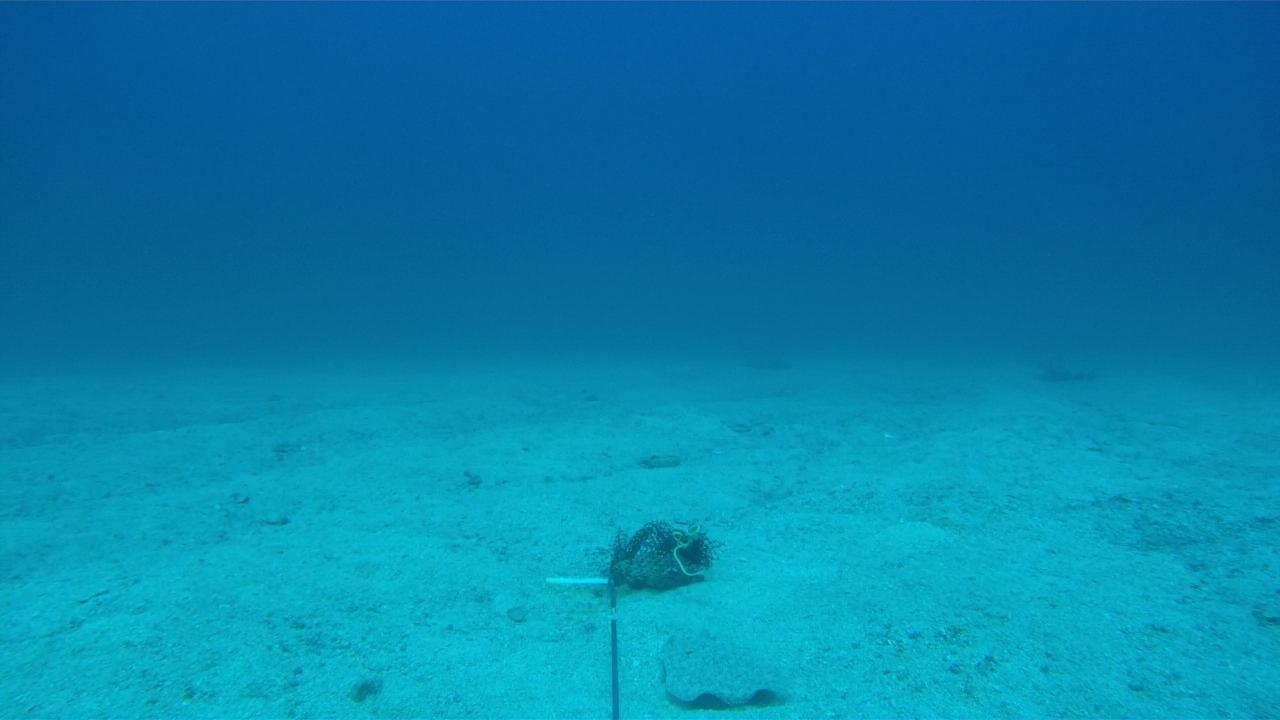bothus: (654, 625, 794, 713)
